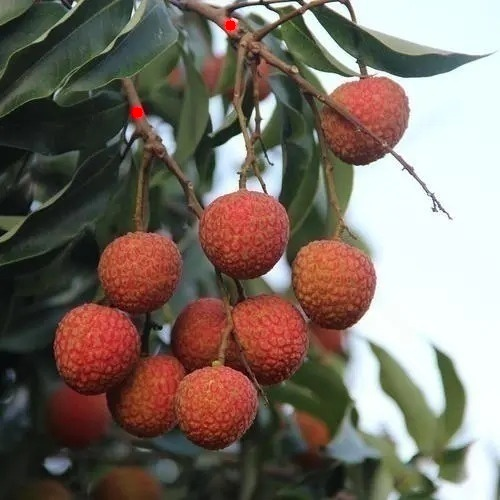litchi: (47, 232, 300, 450), (198, 187, 289, 280), (318, 76, 409, 166), (291, 238, 376, 330)
stem: (114, 55, 161, 140), (192, 4, 244, 35)
